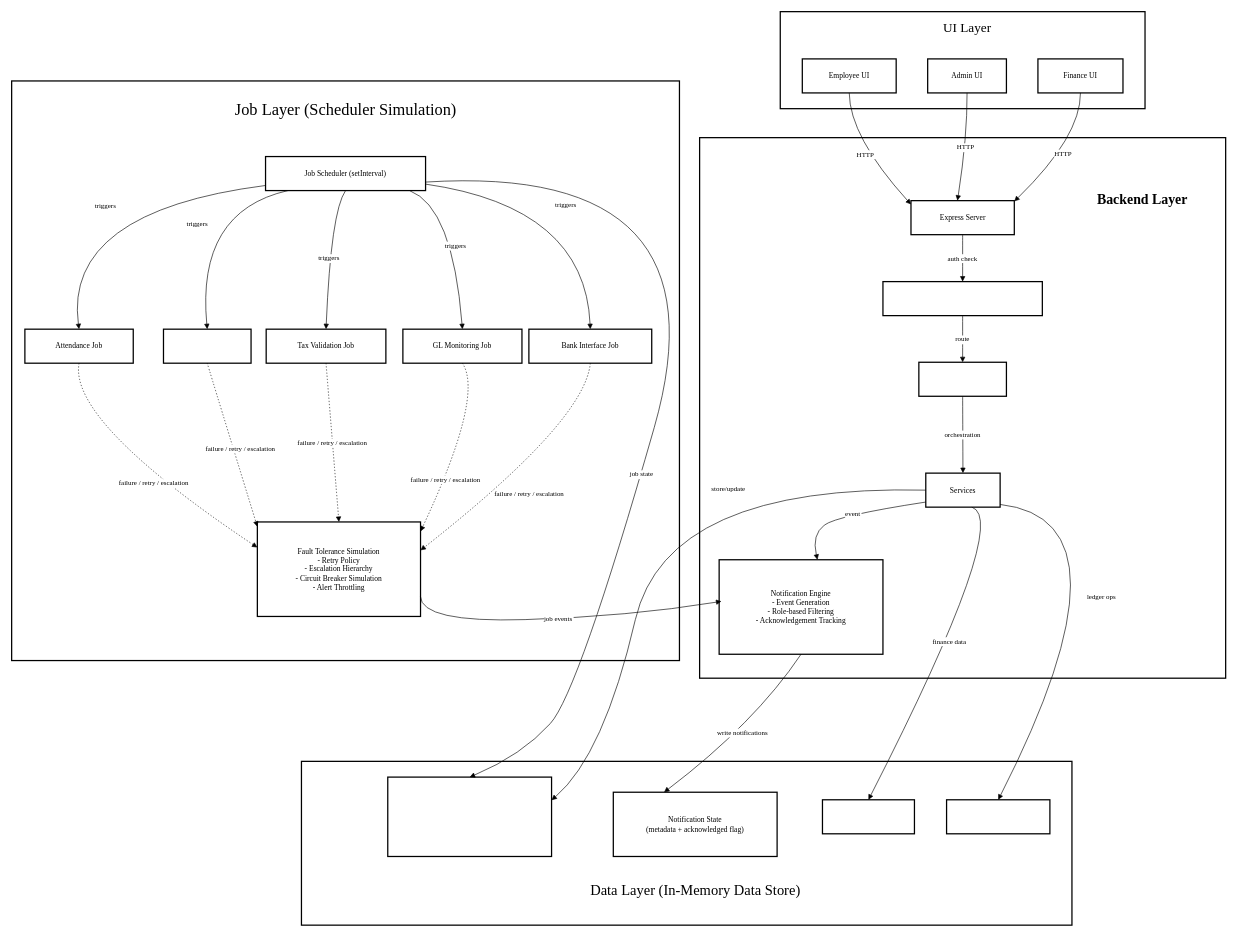
This 1237x936 diagram has some shape labels left out. Each missing label, with the centre of its shape:
Authentication Middleware: the point at 962,298
Controllers: the point at 962,379
GL Accounts: the point at 868,816
In-Memory Data Store users, payroll, notifications, requests, jobStates: the point at 469,816
Ledger System: the point at 998,816
Payroll Job: the point at 207,346
